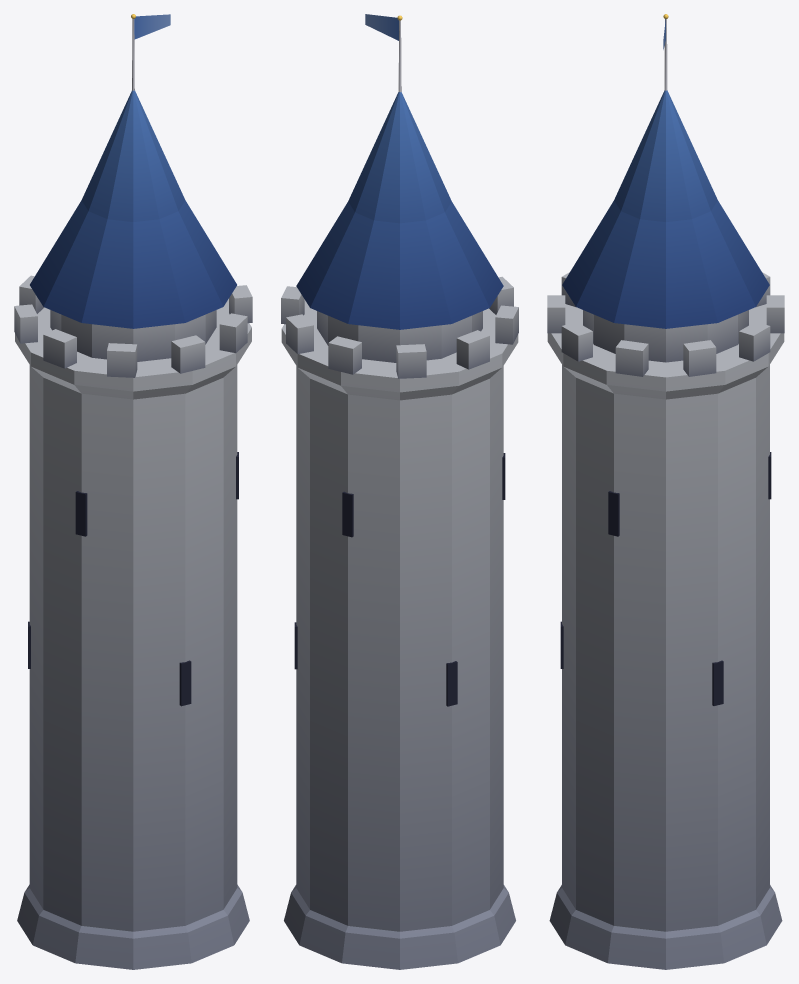
Rendered from castle_tower_tall.glb.
3 renders of one model, left to right at view 1: azimuth 30°, elevation 25°; view 2: azimuth 150°, elevation 25°; view 3: azimuth 270°, elevation 25°, orthographic.
Visible parts, largest first — view 1: castle_tower_tall; view 2: castle_tower_tall; view 3: castle_tower_tall.
Part boxes in pixels (left/top/right/bottom): castle_tower_tall: left=14, top=14, right=252, bottom=969; castle_tower_tall: left=281, top=14, right=518, bottom=969; castle_tower_tall: left=547, top=14, right=784, bottom=969.
Bounding box in the file's own units: 4.56 × 19.25 × 4.57.
